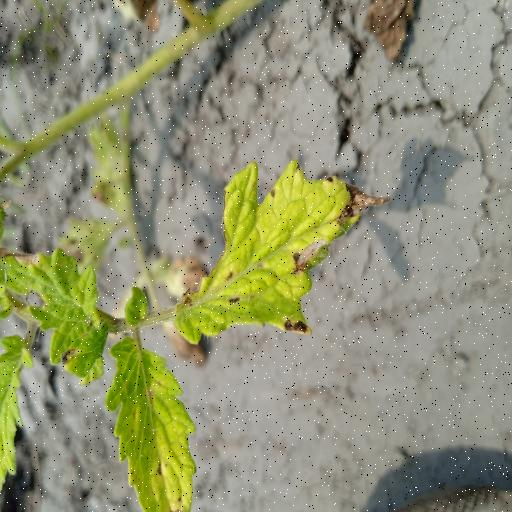Tomato_Brown_Spots: (168, 149, 385, 350), (104, 328, 199, 512), (0, 238, 111, 384)
